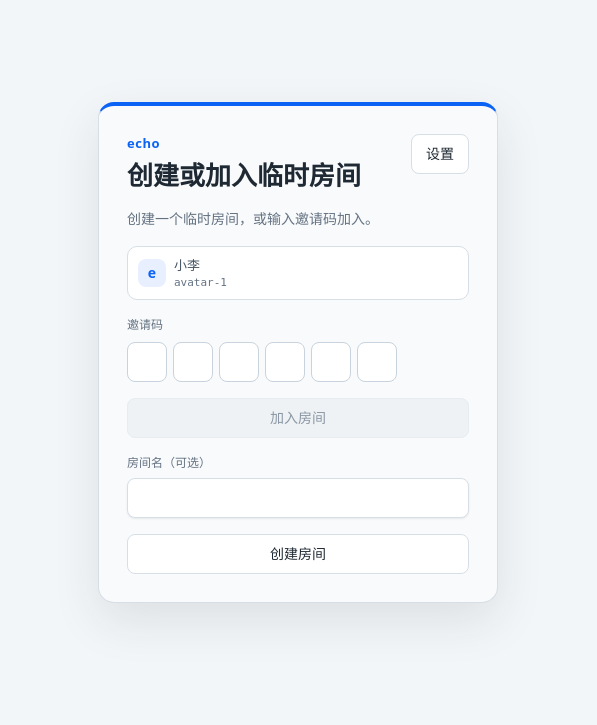
Test: App local settings entry › falls back to system defaults when saved devices are unavailable
Click the button "设置" at (440, 154), box left=411, top=134, right=469, bottom=174
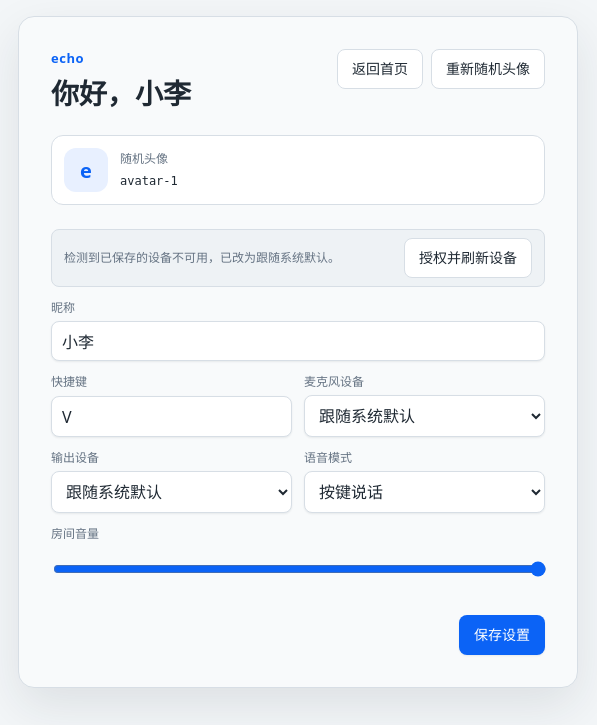
Check: the button "保存设置" is shown, box left=459, top=615, right=545, bottom=655
Check: the text "检测到已保存的设备不可用，已改为跟随系统默认。" is shown, box left=64, top=249, right=340, bottom=267
Check: the dropdown labelled "麦克风设备" shows "跟随系统默认", box left=304, top=395, right=545, bottom=437
